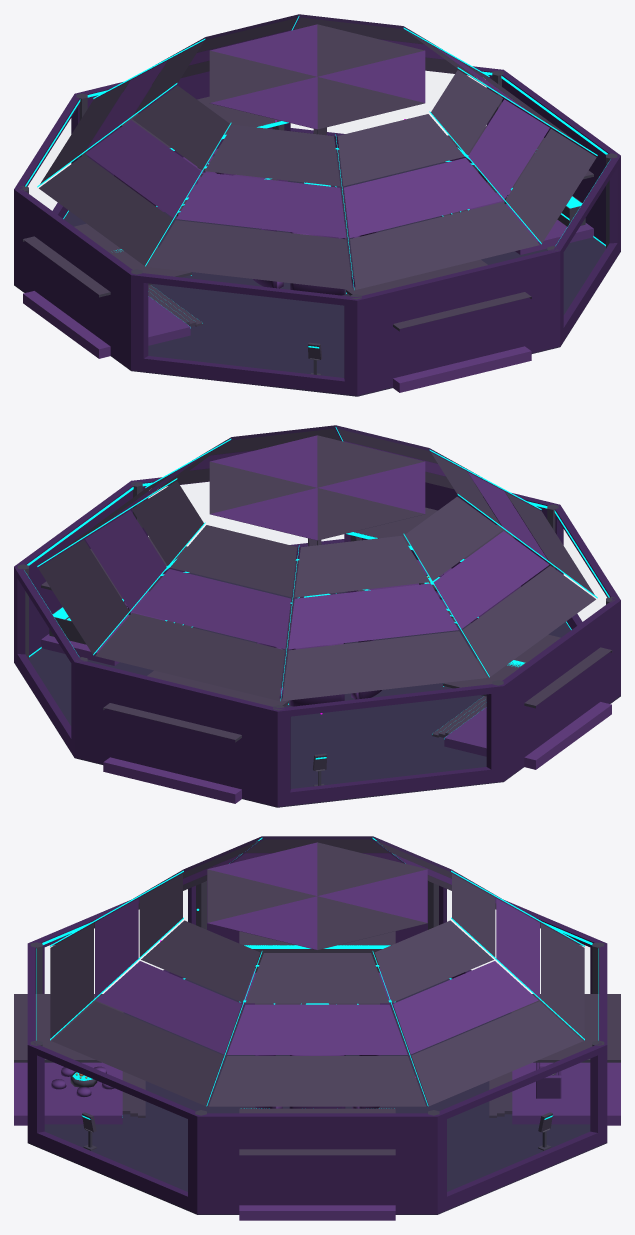
Rendered from sagitta.glb.
The picture shows the model from 3 angles, top to bottom: view 1: azimuth 30°, elevation 25°; view 2: azimuth 150°, elevation 25°; view 3: azimuth 270°, elevation 25°; orthographic projection. The views are drawn at different scales.
Visible parts, largest first — view 1: Wall_05, Floor, Wall_03, DomePanel_4_2, DomePanel_5_2, DomePanel_4_1, DomePanel_5_1, DomePanel_3_2, DomePanel_4_0, DomePanel_5_0, DomePanel_3_1, DomePanel_6_2 (+31 smaller); view 2: Wall_01, Floor, Wall_03, DomePanel_2_2, DomePanel_1_2, DomePanel_2_1, DomePanel_1_1, DomePanel_3_2, DomePanel_2_0, DomePanel_1_0, DomePanel_3_1, DomePanel_0_2 (+31 smaller); view 3: Wall_07, Floor, DomePanel_7_2, DomePanel_0_2, DomePanel_6_2, DomePanel_7_1, DomePanel_0_1, DomePanel_6_1, DomePanel_7_0, DomePanel_0_0, DomePanel_6_0, AlcovePlat_00 (+35 smaller).
Part boxes in pixels (<box>): Wall_05: <box>356,249,560,396</box>; Floor: <box>14,149,620,396</box>; Wall_03: <box>14,189,132,370</box>; DomePanel_4_2: <box>147,220,352,290</box>; DomePanel_5_2: <box>350,202,539,289</box>; DomePanel_4_1: <box>176,172,346,238</box>; DomePanel_5_1: <box>344,158,502,237</box>; DomePanel_3_2: <box>39,154,172,265</box>; DomePanel_4_0: <box>205,124,340,186</box>; DomePanel_5_0: <box>337,114,464,186</box>; DomePanel_3_1: <box>85,120,201,217</box>; DomePanel_6_2: <box>505,129,596,243</box>; Wall_01: <box>74,660,278,807</box>; Floor: <box>14,560,620,807</box>; Wall_03: <box>502,600,620,781</box>; DomePanel_2_2: <box>282,631,487,701</box>; DomePanel_1_2: <box>95,613,284,700</box>; DomePanel_2_1: <box>288,583,458,649</box>; DomePanel_1_1: <box>132,569,290,648</box>; DomePanel_3_2: <box>462,565,595,676</box>; DomePanel_2_0: <box>294,535,429,597</box>; DomePanel_1_0: <box>170,525,297,597</box>; DomePanel_3_1: <box>433,531,549,628</box>; DomePanel_0_2: <box>38,540,129,654</box>; Wall_07: <box>197,1113,437,1214</box>; Floor: <box>27,979,607,1214</box>; DomePanel_7_2: <box>208,1056,426,1106</box>; DomePanel_0_2: <box>411,1001,582,1105</box>; DomePanel_6_2: <box>52,1001,223,1105</box>; DomePanel_7_1: <box>227,1004,407,1054</box>; DomePanel_0_1: <box>393,961,538,1054</box>; DomePanel_6_1: <box>96,961,241,1054</box>; DomePanel_7_0: <box>245,953,389,1003</box>; DomePanel_0_0: <box>374,920,493,1002</box>; DomePanel_6_0: <box>141,920,260,1002</box>; AlcovePlat_00: <box>512,1062,620,1125</box>.
Size of the model in its own units: 25.16 by 9.15 by 25.16.
